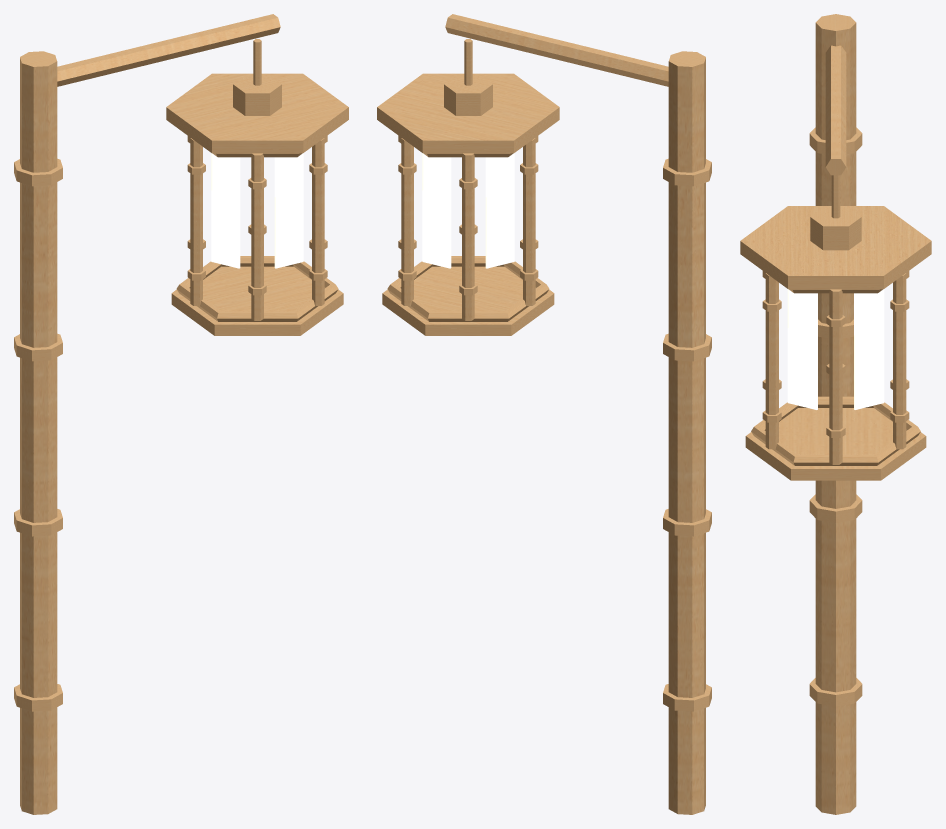
The model's file is bamboo_lantern.glb.
3 renders of one model, left to right at view 1: azimuth 30°, elevation 25°; view 2: azimuth 150°, elevation 25°; view 3: azimuth 270°, elevation 25°, orthographic. The views are drawn at different scales.
Visible parts, largest first — view 1: Post, CapTop, CapBot, Arm, BottomRing, Paper_3, Paper_4, Rib_4, Rib_3, Rib_5, Roof, Paper_0 (+5 smaller); view 2: Post, CapTop, CapBot, Arm, BottomRing, Paper_1, Paper_2, Rib_2, Rib_3, Rib_1, Roof, Paper_5 (+5 smaller); view 3: Post, CapTop, CapBot, Arm, BottomRing, Paper_0, Paper_5, Rib_0, Rib_1, Rib_5, Roof, Paper_2 (+7 smaller).
Boxes of the visible parts, x1,y1,x2,y2 form: Post: (20, 51, 57, 814); CapTop: (166, 73, 348, 153); CapBot: (171, 266, 343, 335); Arm: (57, 14, 280, 86); BottomRing: (176, 256, 338, 321); Paper_3: (211, 190, 240, 268); Paper_4: (274, 190, 303, 268); Rib_4: (251, 153, 263, 320); Rib_3: (190, 138, 202, 305); Rib_5: (312, 138, 324, 305); Roof: (233, 75, 281, 115); Paper_0: (274, 153, 303, 196); Post: (668, 51, 705, 814); CapTop: (377, 73, 559, 153); CapBot: (382, 266, 554, 335); Arm: (445, 14, 668, 86); BottomRing: (387, 256, 549, 321); Paper_1: (422, 190, 451, 268); Paper_2: (485, 190, 514, 268); Rib_2: (462, 153, 474, 320); Rib_3: (523, 138, 535, 305); Rib_1: (401, 138, 413, 305); Roof: (444, 75, 492, 115); Paper_5: (422, 153, 451, 196); Post: (815, 14, 856, 814); CapTop: (740, 206, 931, 289); CapBot: (745, 408, 926, 480); Arm: (825, 45, 846, 175); BottomRing: (751, 396, 920, 465); Paper_0: (854, 328, 884, 409); Paper_5: (787, 328, 817, 409); Rib_0: (829, 289, 842, 464); Rib_1: (893, 273, 906, 449); Rib_5: (765, 273, 778, 449); Roof: (810, 207, 861, 250); Paper_2: (854, 289, 884, 334).
Size of the model in its own units: 1.02 by 2.35 by 0.52.
Materials: 2 (2 with a texture image).
